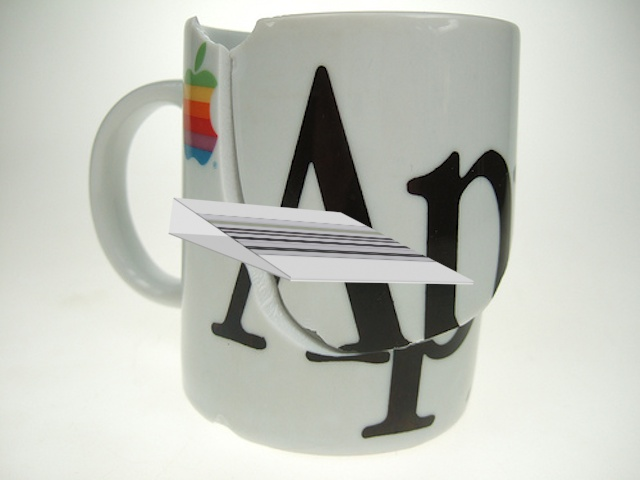ring_binder: (169, 193, 480, 288)
